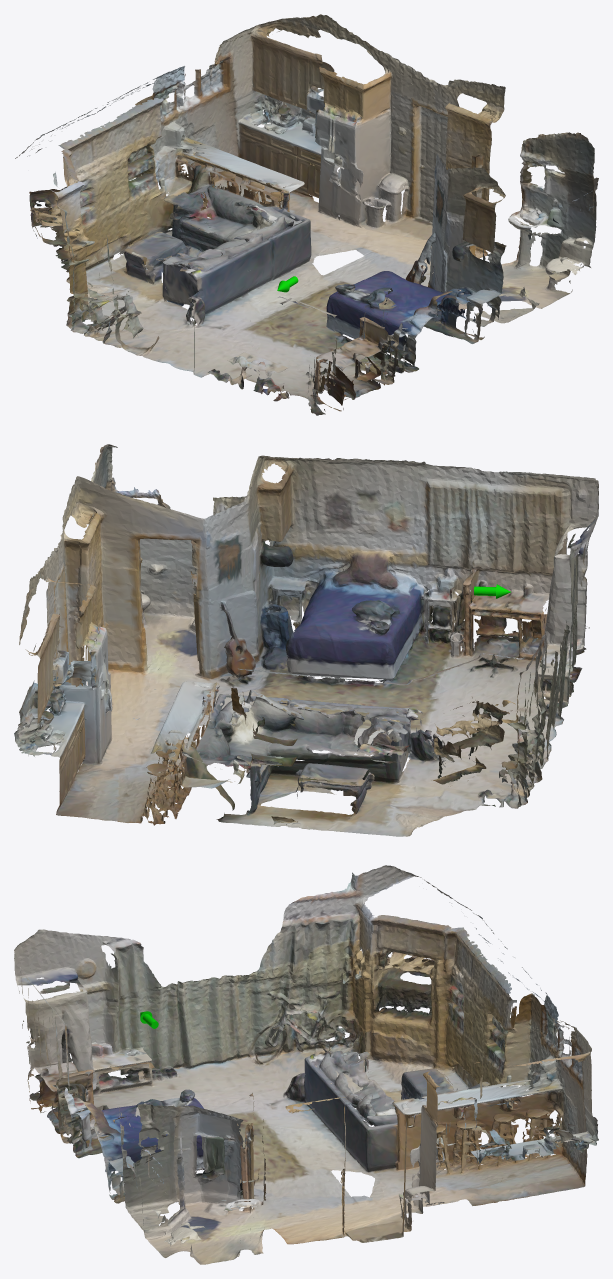
File: situation_5.glb
3 renders of one model, top to bottom at view 1: azimuth 30°, elevation 25°; view 2: azimuth 150°, elevation 25°; view 3: azimuth 270°, elevation 25°, orthographic. The views are drawn at different scales.
Parts seen in each view (by area): view 1: world; view 2: world; view 3: world.
Boxes of the visible parts, x1=… form: world: x1=15, y1=14, x2=598, y2=415; world: x1=14, y1=444, x2=598, y2=836; world: x1=14, y1=865, x2=598, y2=1264.
Size of the model in its own units: 8.42 by 3.03 by 8.74.
